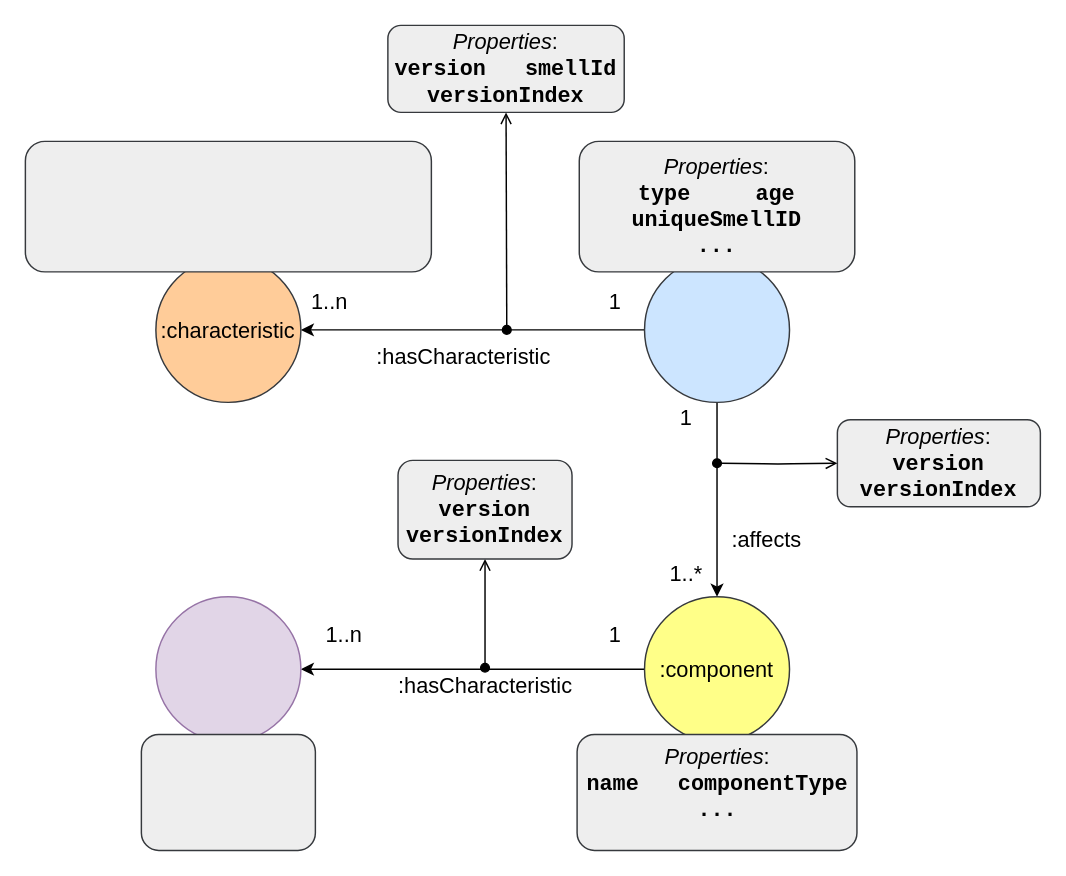
The diagram is 1066 pixels wide and 876 high, and some of its shapes have lost their labels. The shapes that lost their labels are listed below. From the top down, each one's centre as x and y in pixels, then its label:
point 227,206: Properties : size pageRank overlapRatio numOfEdges ...
point 716,329: :smell
point 227,668: :component Characteristic
point 227,791: Properties : linesOfCode ....
